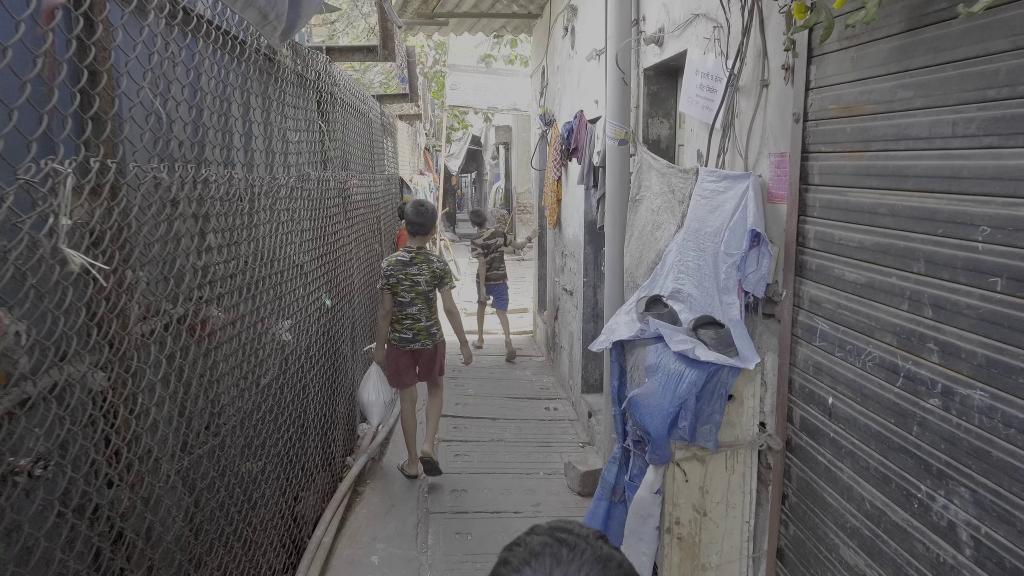garbage: (352, 356, 398, 430)
